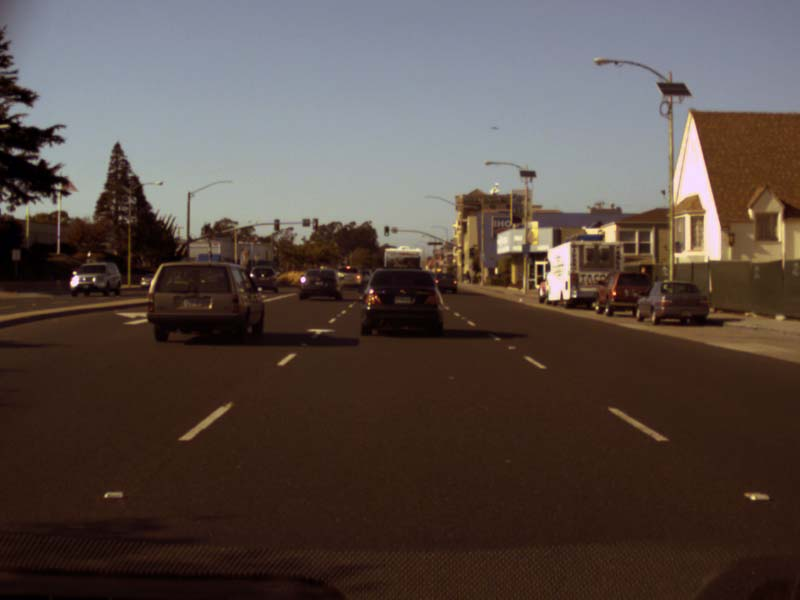Green: (383, 225, 389, 237)
